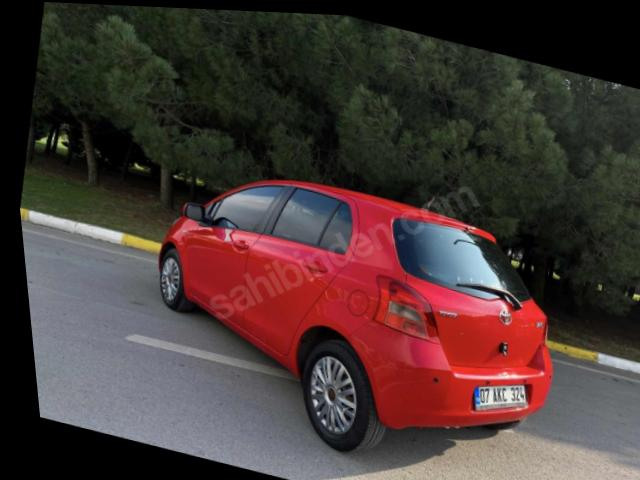plaka: (474, 386, 526, 410)
